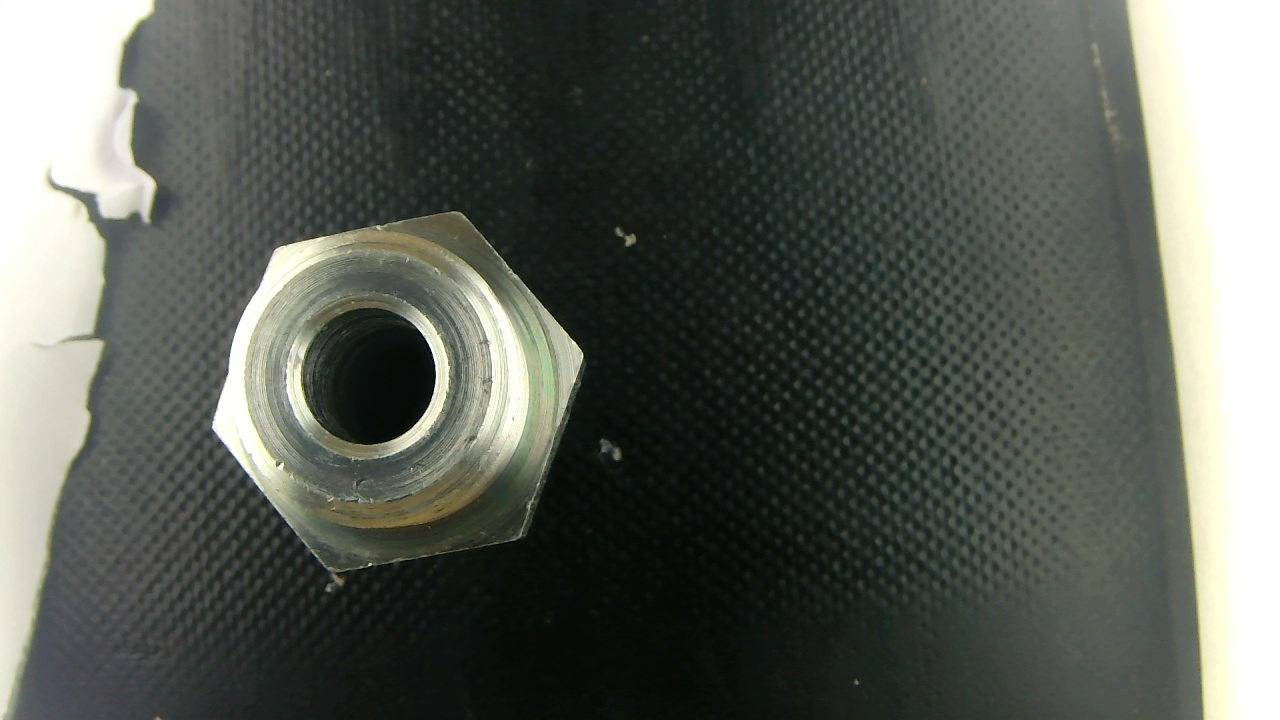SurfaceDent_Adaptor: (326, 493, 415, 502)
